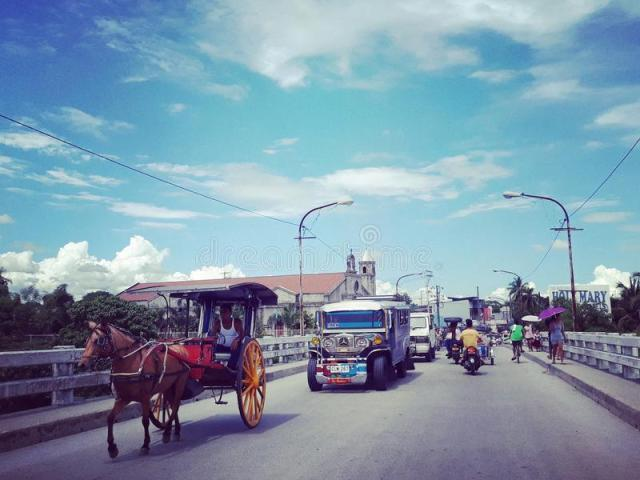jeepney: (304, 289, 416, 392)
